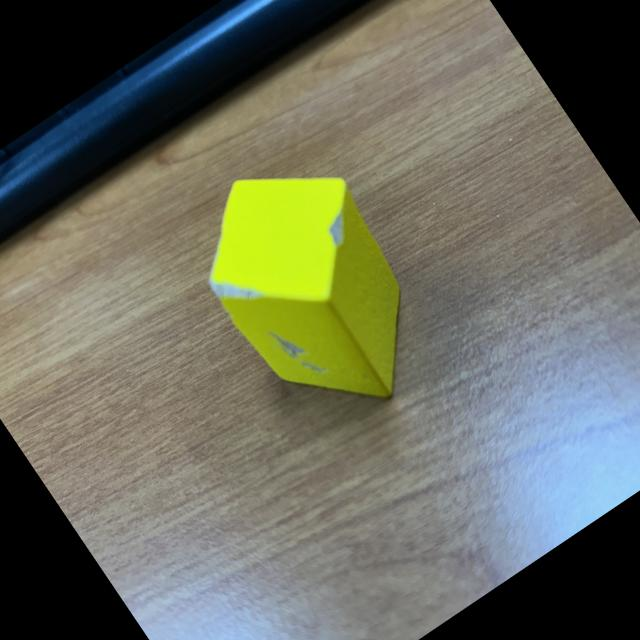broken: (166, 128, 462, 449)
